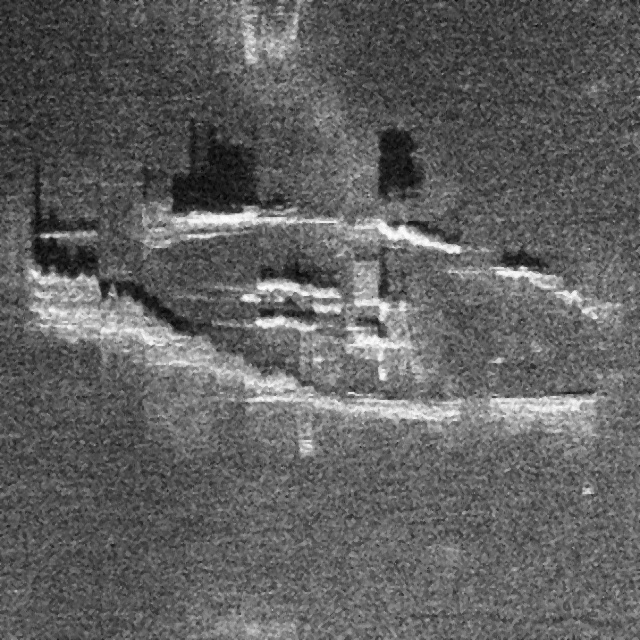Ship: (23, 137, 621, 477)
